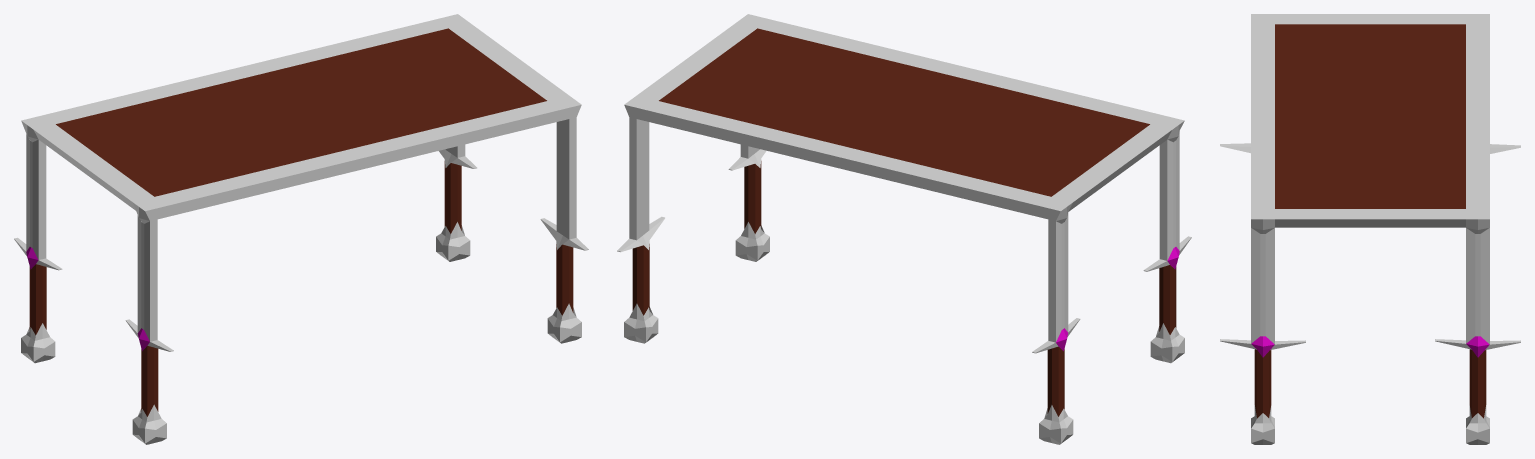
The model's file is SwordTable.fbx.
3 renders of one model, left to right at view 1: azimuth 30°, elevation 25°; view 2: azimuth 150°, elevation 25°; view 3: azimuth 270°, elevation 25°, orthographic. The views are drawn at different scales.
Visible parts, largest first — view 1: TableSword; view 2: TableSword; view 3: TableSword.
Boxes of the visible parts, x1=… form: TableSword: x1=14, y1=14, x2=588, y2=444; TableSword: x1=617, y1=14, x2=1191, y2=444; TableSword: x1=1220, y1=14, x2=1520, y2=444.
Bounding box in the file's own units: 203 × 105 × 126.
